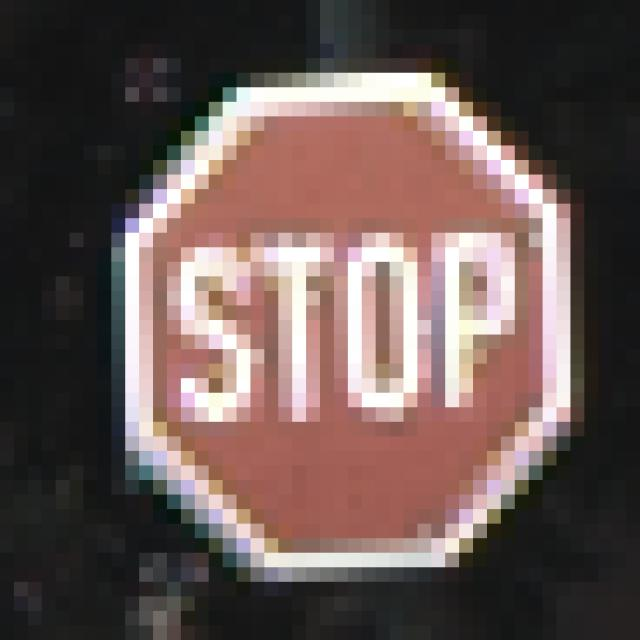STOP: (85, 74, 558, 568)
